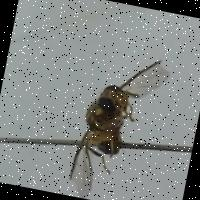Oriental-fruit-fly: (51, 20, 181, 200)
